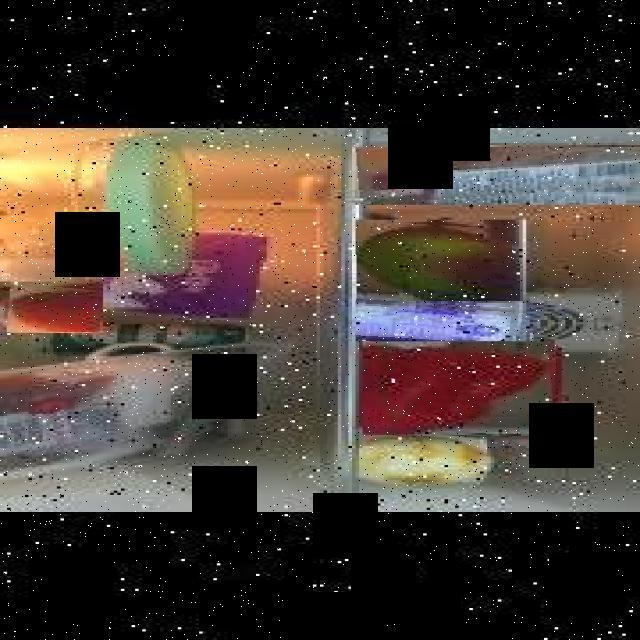apple: (0, 282, 103, 332)
bell_pepper: (364, 342, 556, 437)
heavy_cream: (352, 147, 640, 205)
mango: (352, 220, 523, 301)
yogurt: (356, 299, 526, 341)
